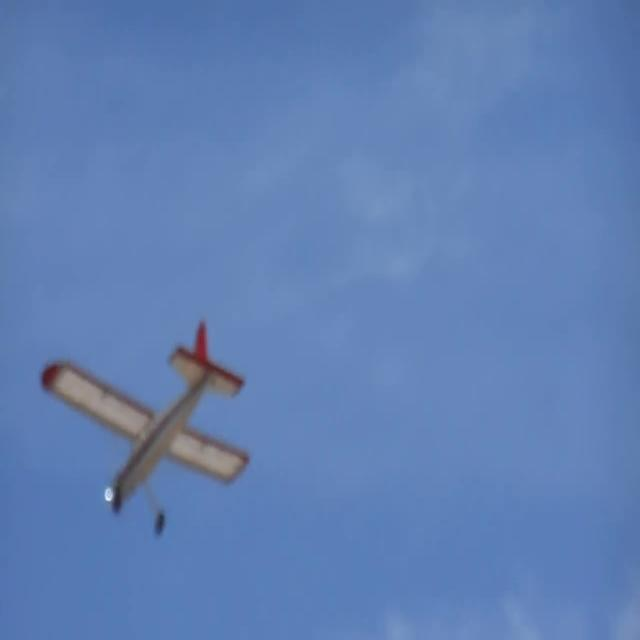iha: (41, 316, 250, 543)
